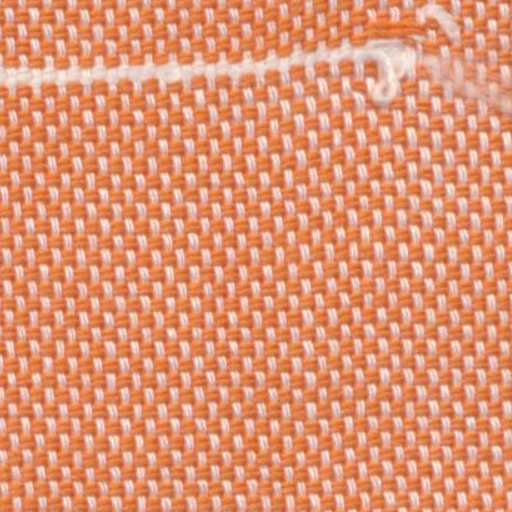DuanSha: (348, 8, 500, 140)
